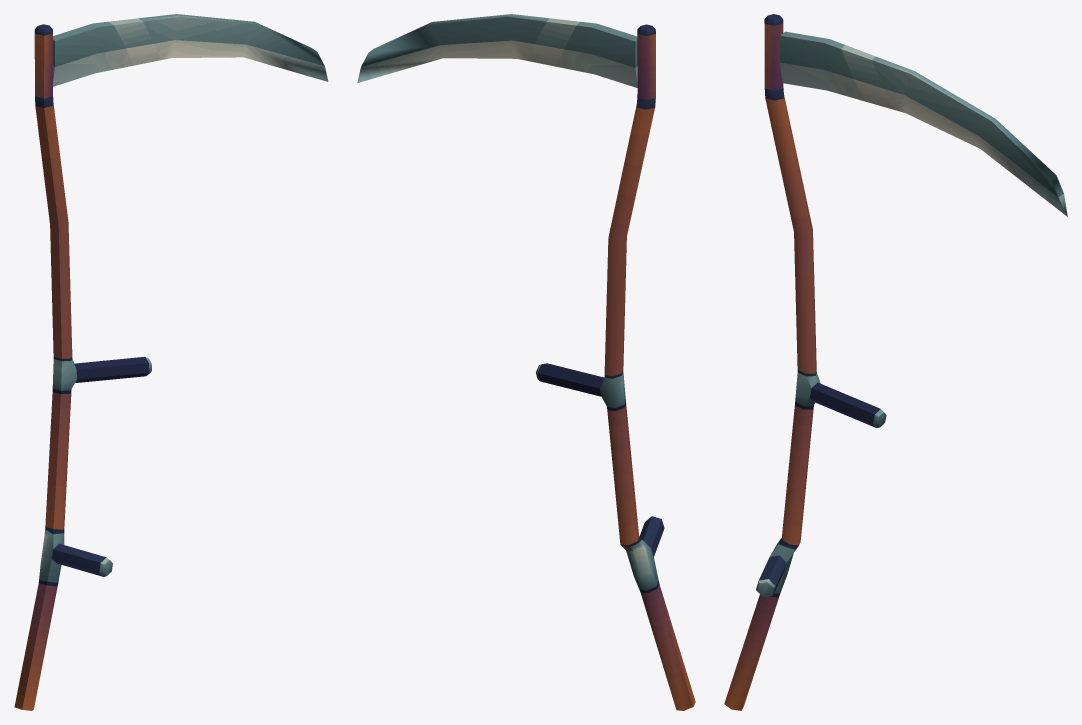
File: Scythe.fbx
3 renders of one model, left to right at view 1: azimuth 30°, elevation 25°; view 2: azimuth 150°, elevation 25°; view 3: azimuth 330°, elevation 25°, orthographic. The views are drawn at different scales.
Visible parts, largest first — view 1: polySurface4; view 2: polySurface4; view 3: polySurface4.
Part boxes in pixels (bbox=[...]): polySurface4: bbox=[14, 14, 328, 710]; polySurface4: bbox=[357, 14, 695, 710]; polySurface4: bbox=[724, 14, 1067, 710].
Size of the model in its own units: 3.37 by 6.69 by 0.8857.
